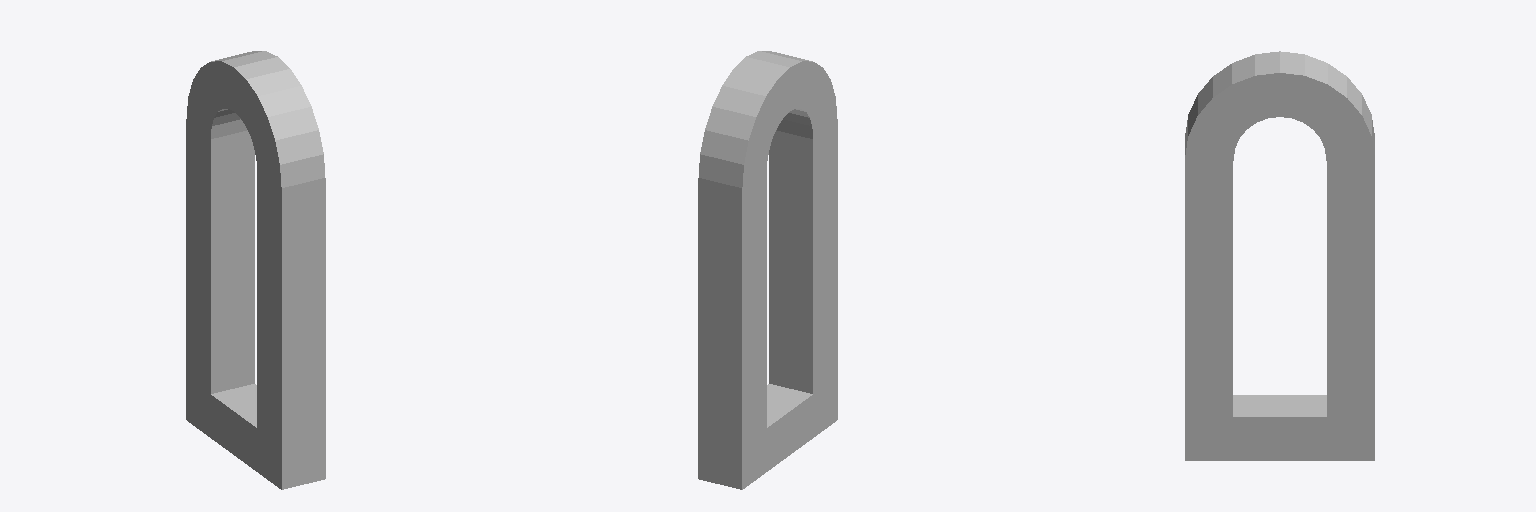
File: detail_021.obj
3 views of the same model, side by side, from view 1: azimuth 30°, elevation 25°; view 2: azimuth 150°, elevation 25°; view 3: azimuth 270°, elevation 25° (orthographic).
Parts seen in each view (by area): view 1: detail_021; view 2: detail_021; view 3: detail_021.
Part boxes in pixels (bbox=[...]): detail_021: bbox=[186, 51, 325, 489]; detail_021: bbox=[698, 51, 837, 489]; detail_021: bbox=[1185, 51, 1374, 460].
Bounding box in the file's own units: 0.05 × 0.4219 × 0.1875.